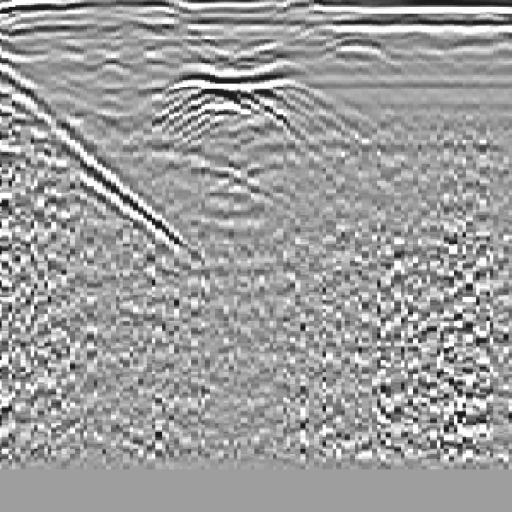metalic: (121, 34, 383, 265)
